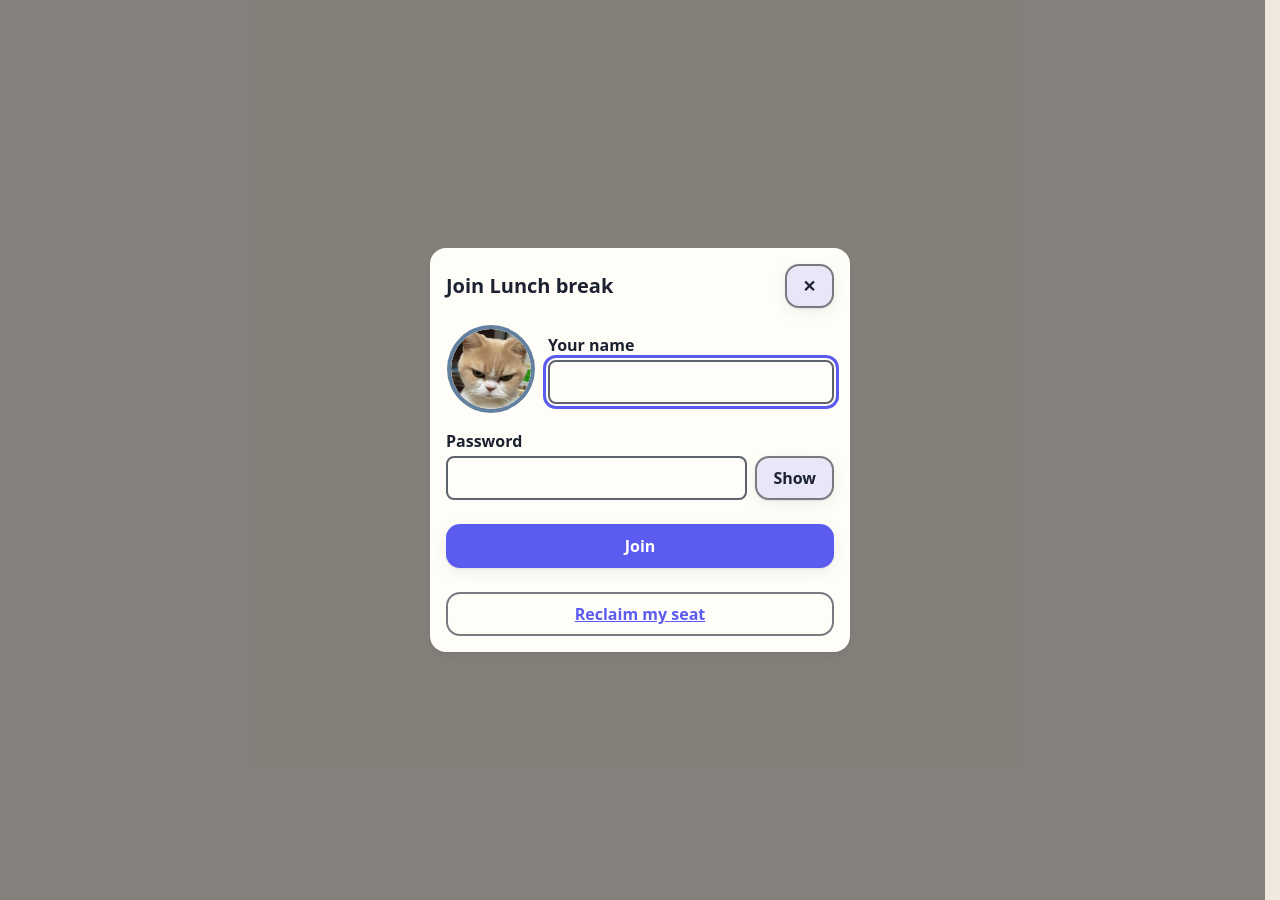
Test: JoinDialog › 409 codes show their text; 429 shows the retry time
The width and height of the screenshot is (1280, 900).
Type "Cleo" into the field labelled "Your name".
click(691, 382); type("Cleo")  # box [548,360,834,404]
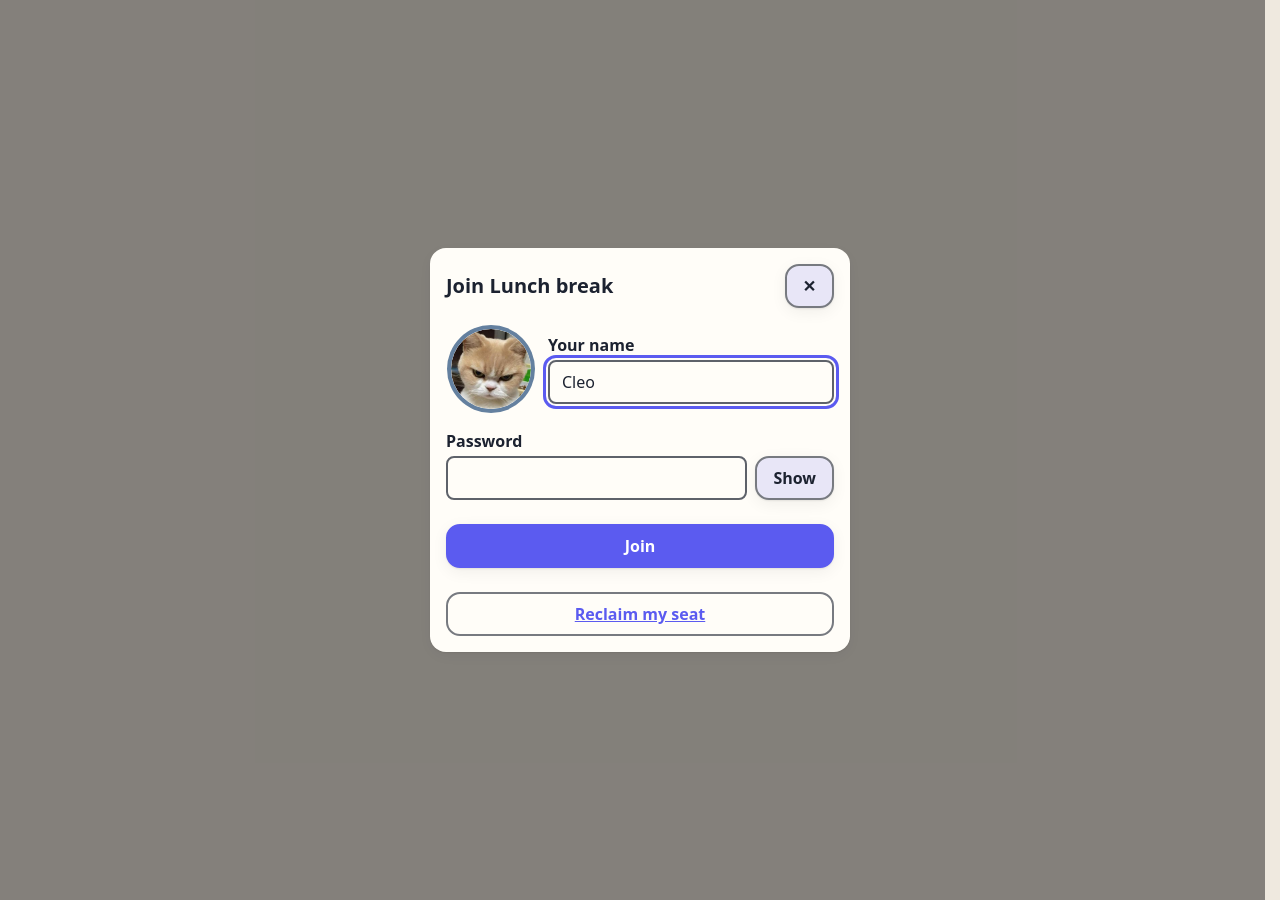
Type "secret" into the password field labelled "Password".
click(597, 478); type("secret")  # box [446,456,747,500]
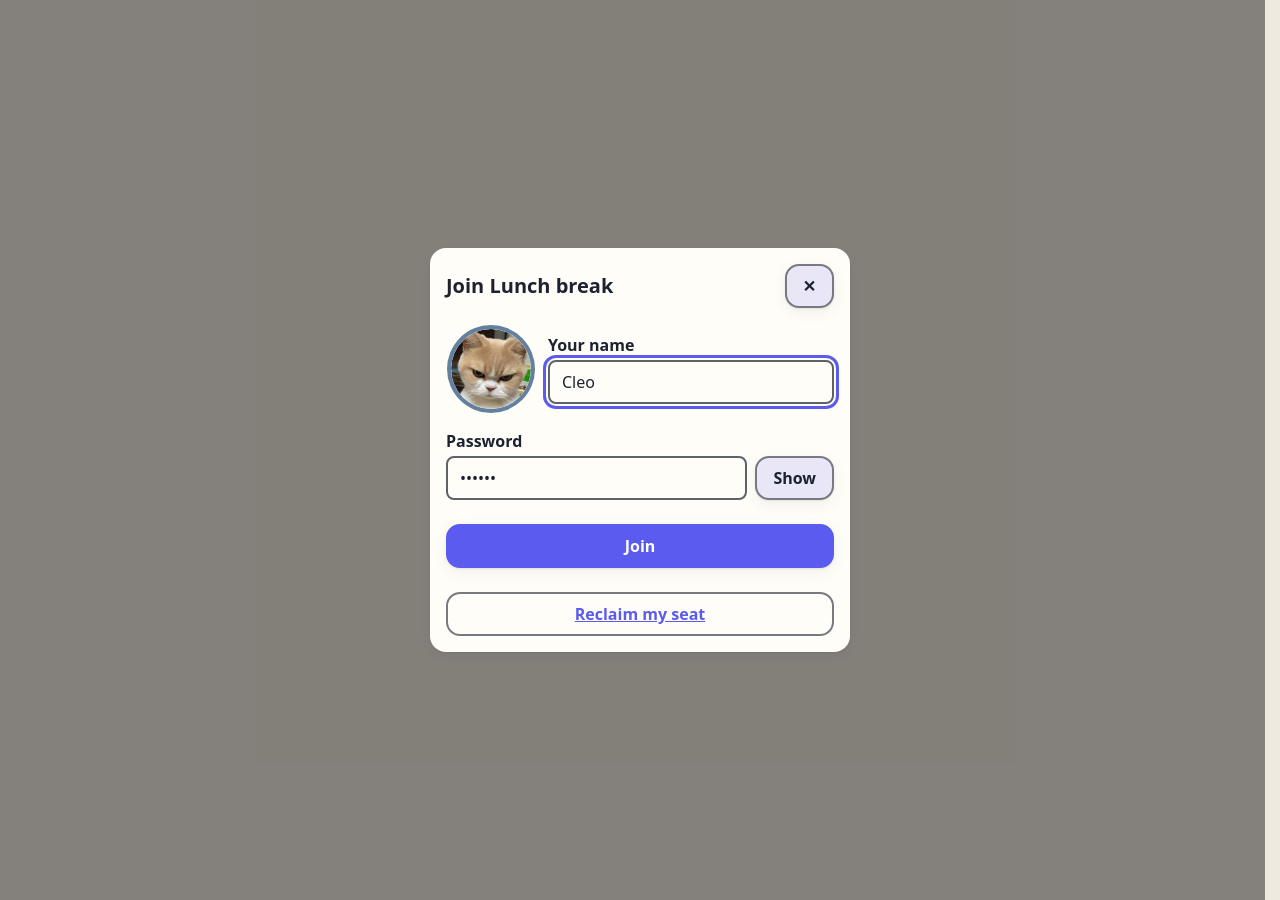
Click the button "Join".
click(640, 546)  # box [446,524,834,568]
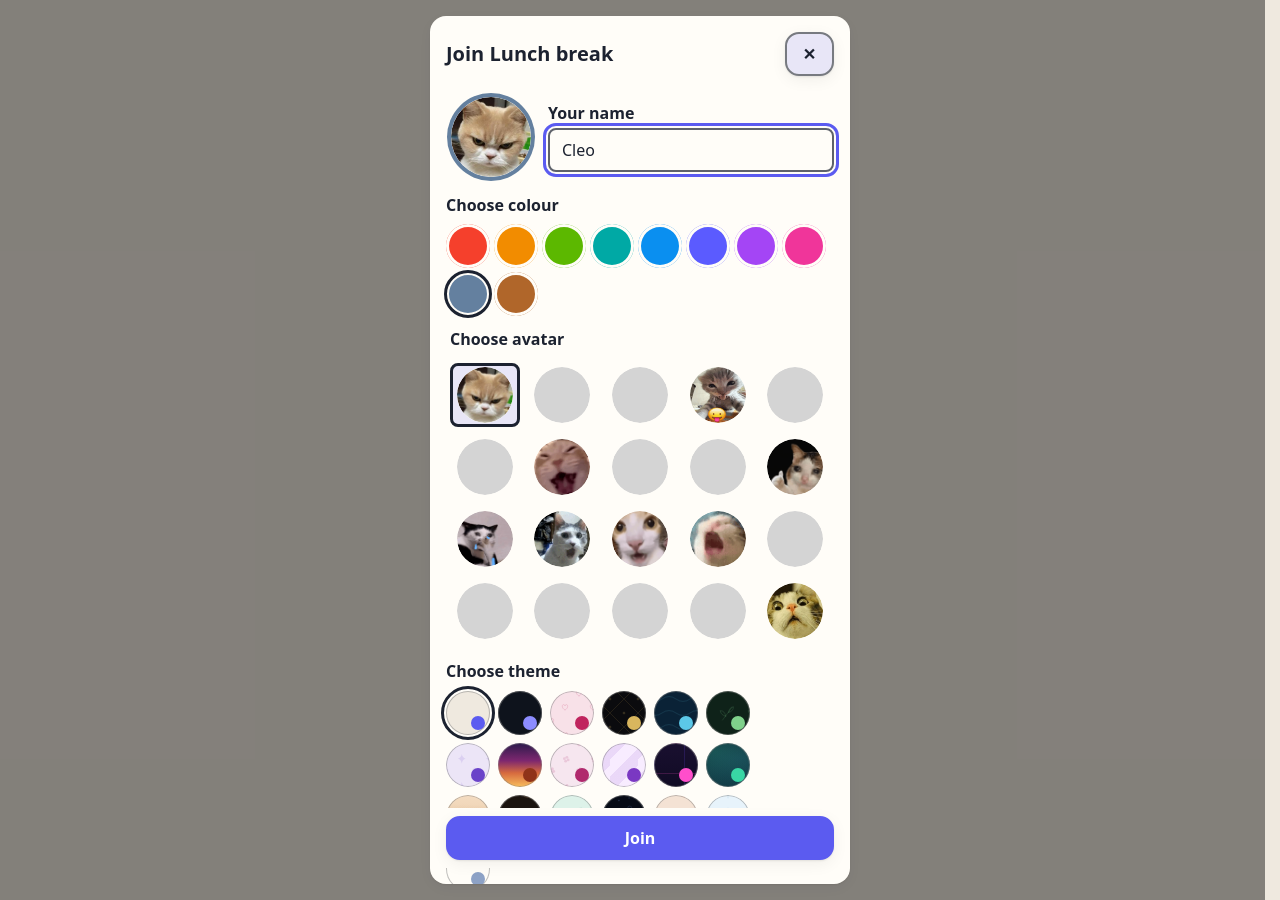
Click the button "Join".
click(640, 838)  # box [446,816,834,860]
(page scrolled)
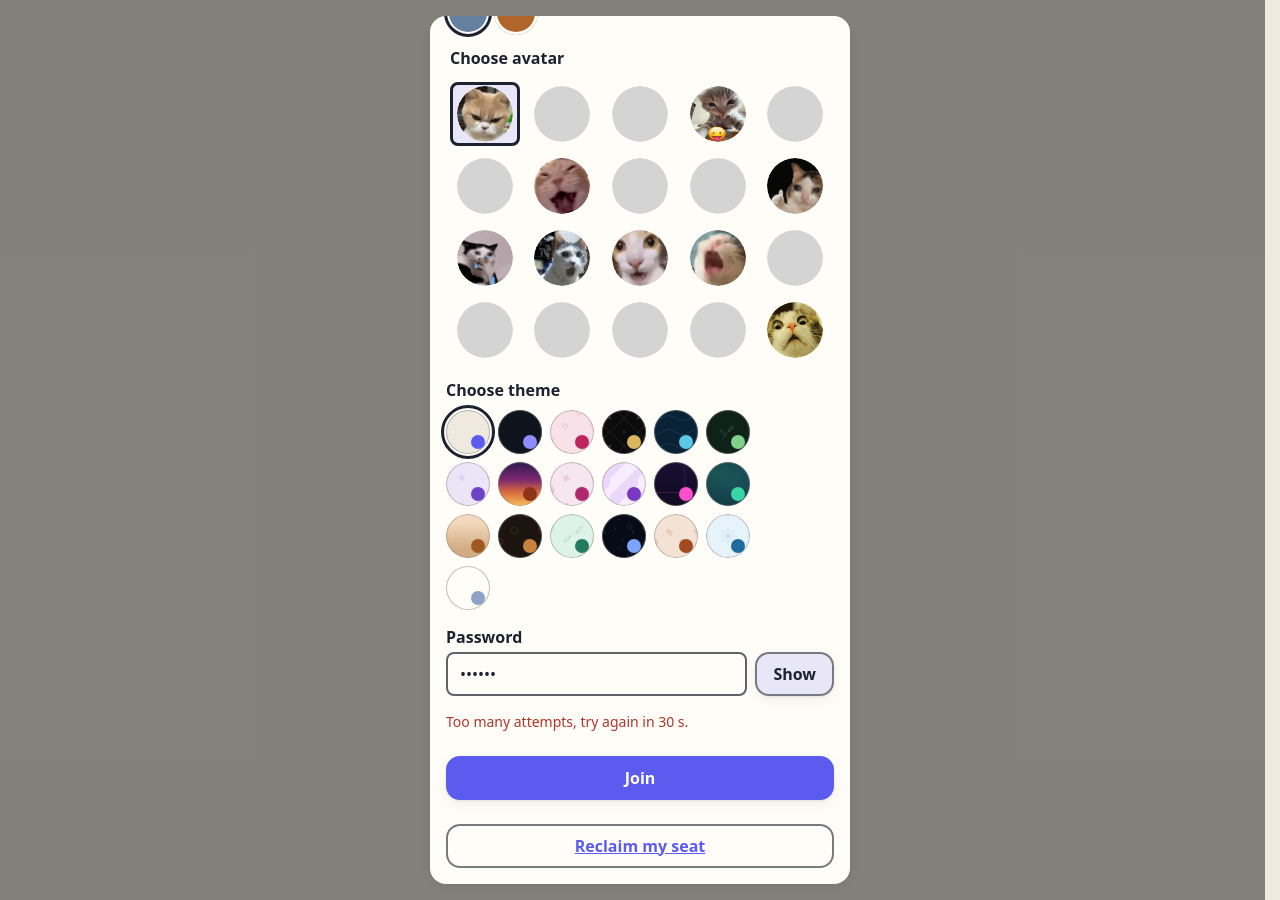
Expected: the text "Too many attempts, try again in 30 s." is shown, [446,712,688,731]
